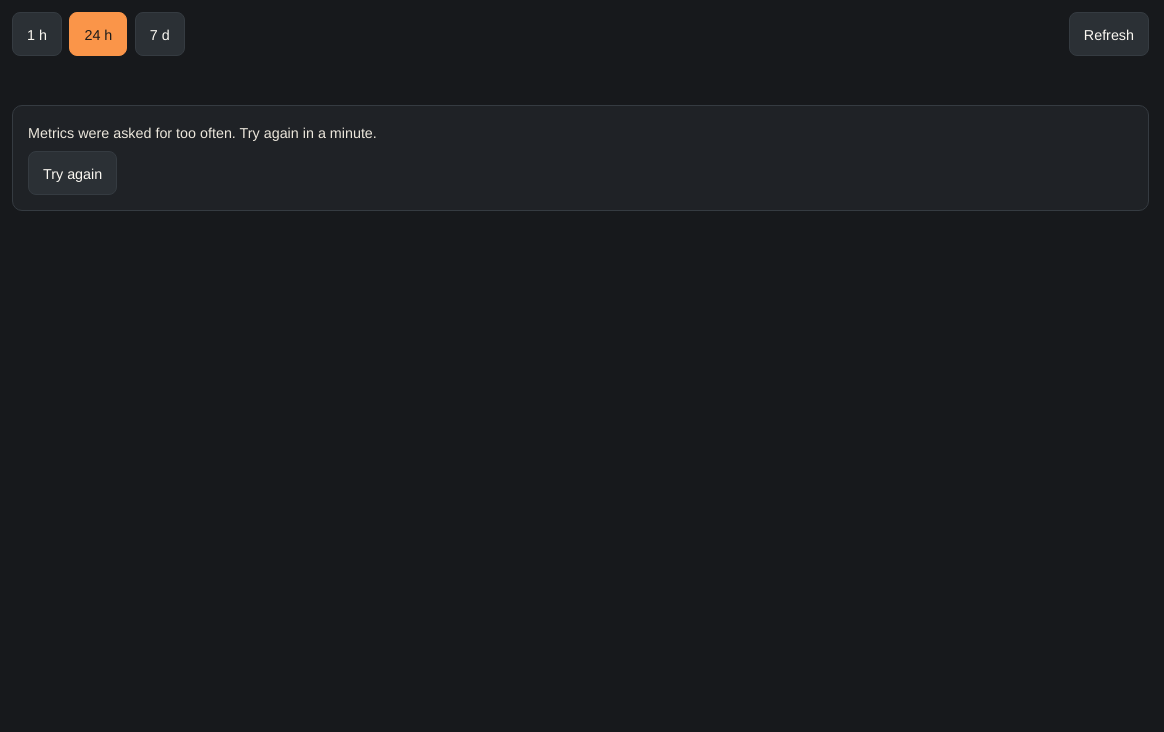
Test: MetricsView › answers a 429 with a calm note and a way to try again, not an alert
Check: the text "Metrics were asked for too often. Try again in a minute." is shown, box [28,121,377,143]
Click the button "Try again".
click(73, 173)  # box [28,151,117,195]
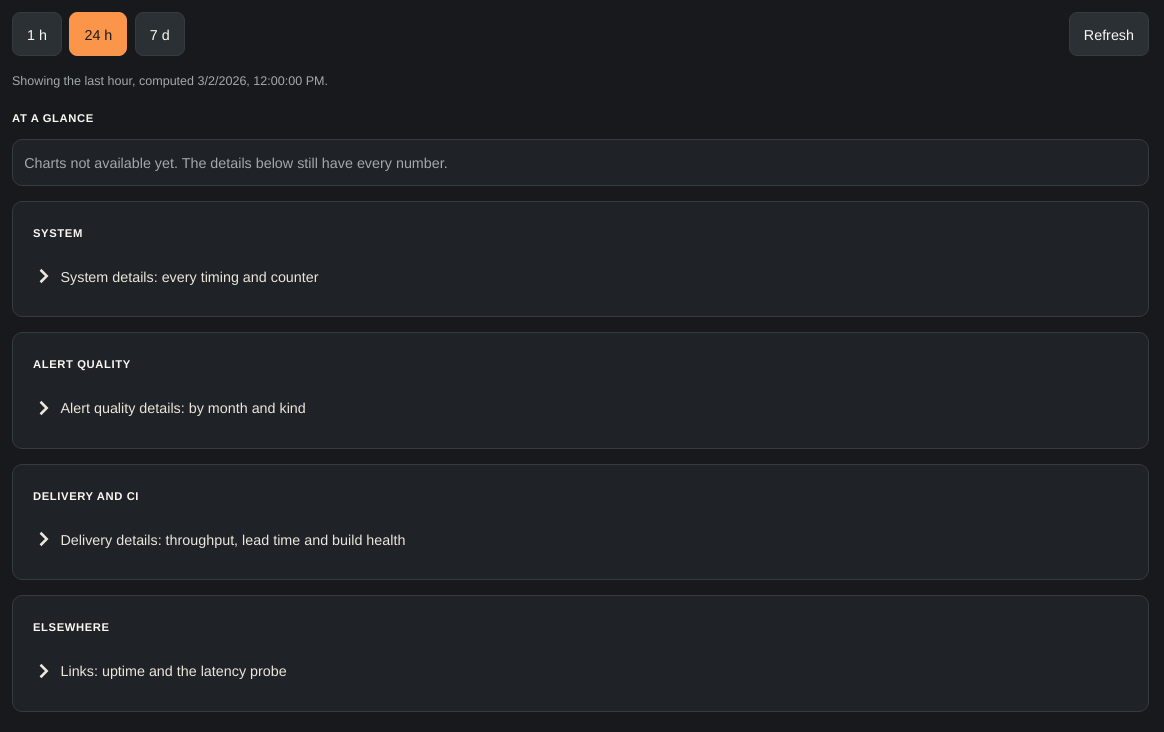
Check: the element "System" is shown, box [12,200,1149,317]
